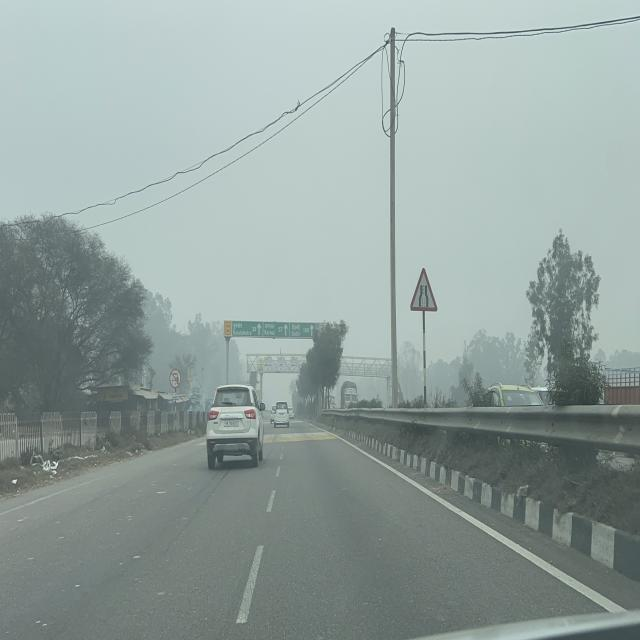GENERAL: (224, 321, 325, 341)
NARROW_ROAD_AHEAD: (410, 268, 438, 312)
